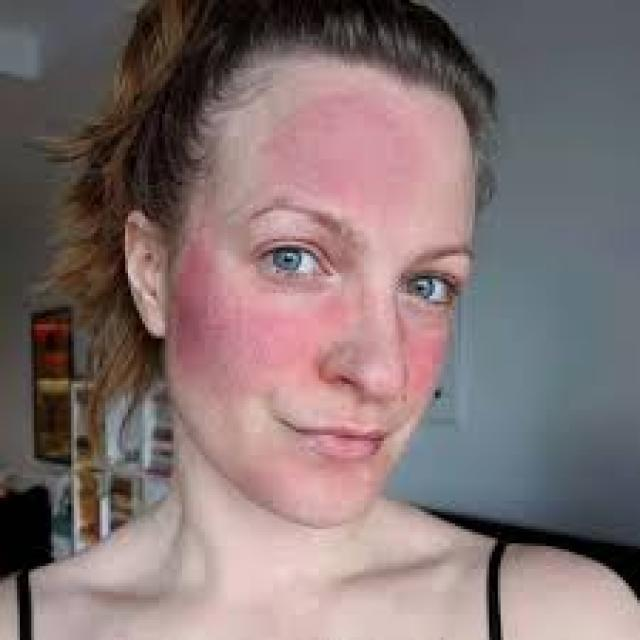Rosacea: (168, 231, 344, 407), (266, 75, 446, 234), (239, 468, 368, 518), (406, 316, 449, 396)
